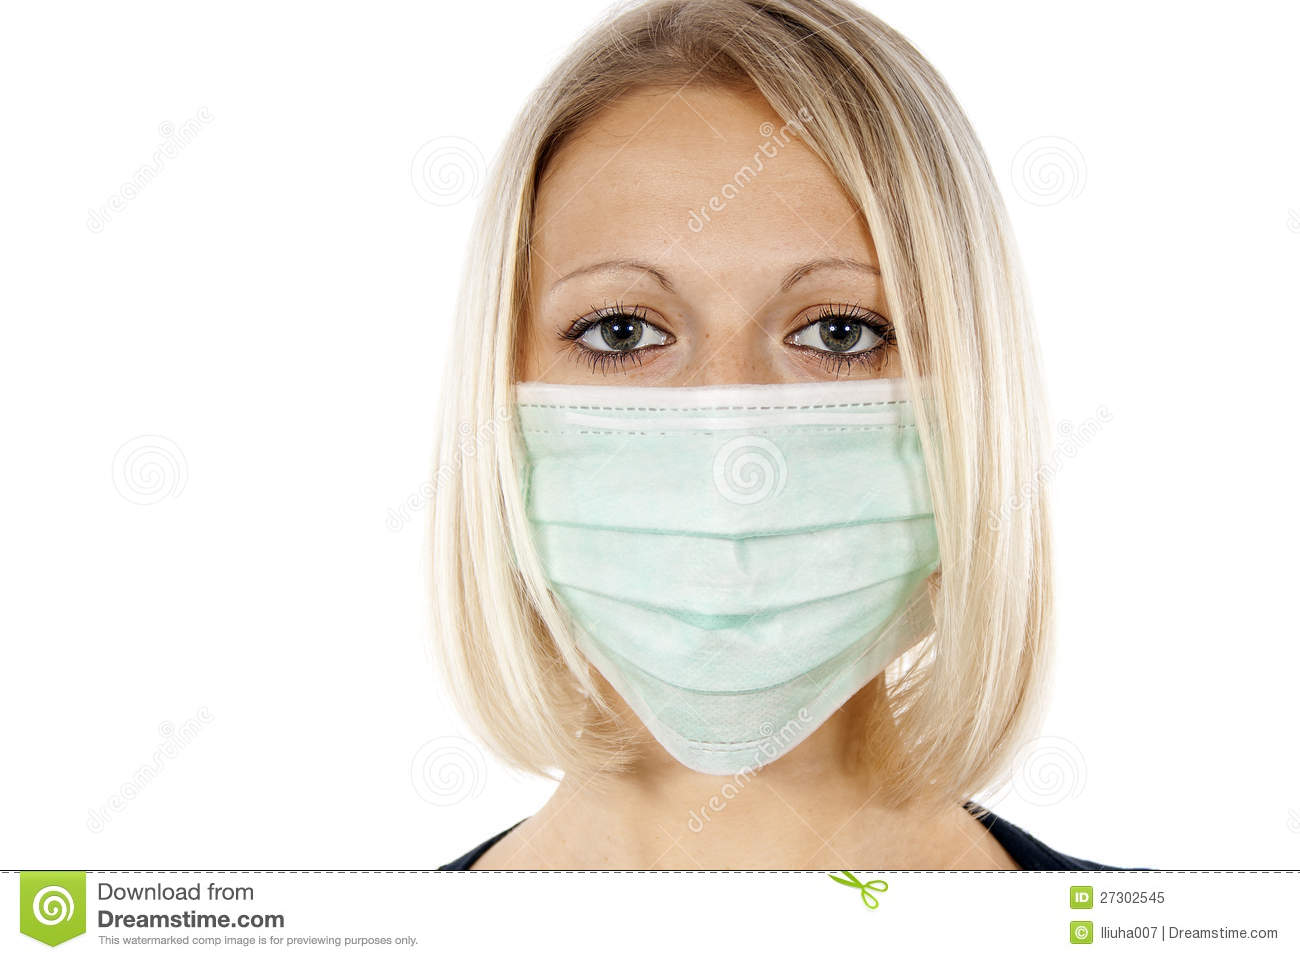mask: (511, 379, 939, 773)
